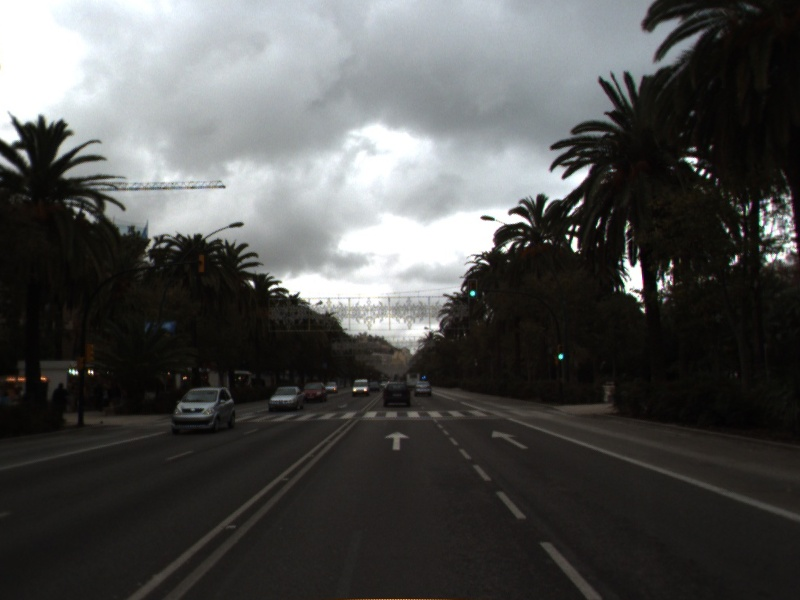STRAIGHT: (489, 428, 531, 451), (382, 429, 412, 452)
